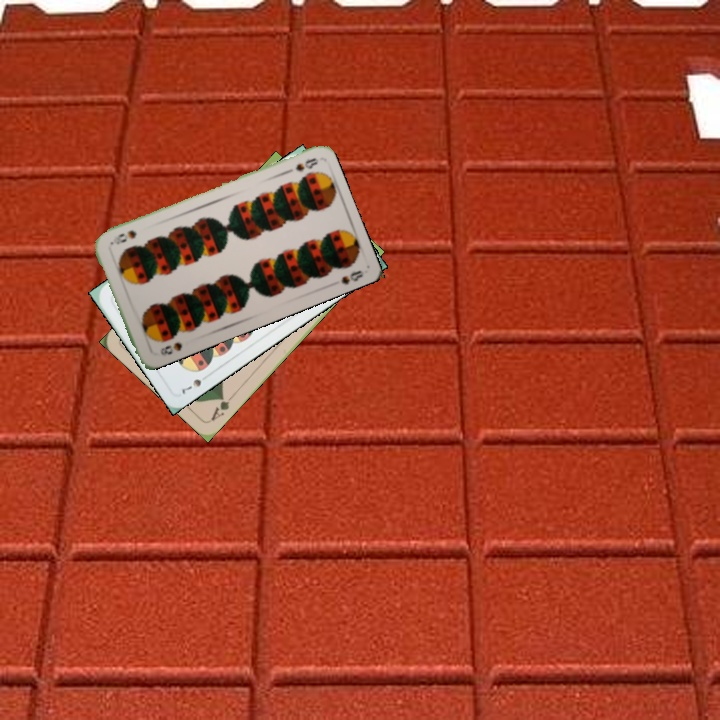GA: (206, 389, 237, 424)
S7: (178, 375, 204, 397)
S8: (281, 154, 321, 176), (156, 338, 185, 359)
